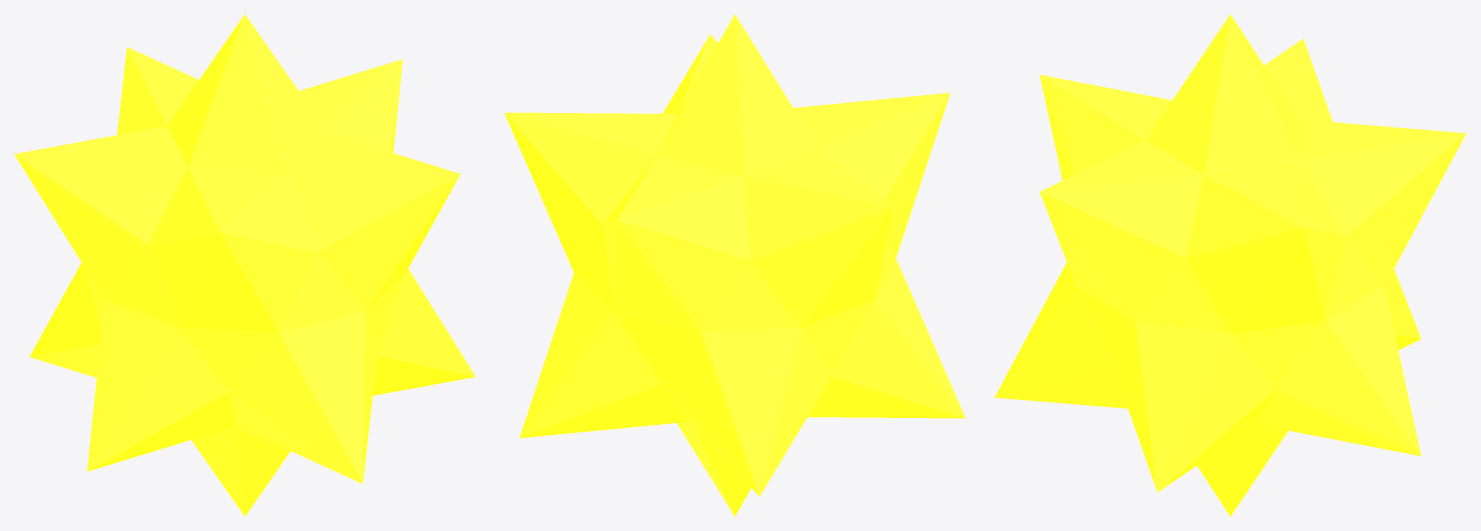
File: StarFlake.gltf
The picture shows the model from 3 angles, left to right: view 1: azimuth 30°, elevation 25°; view 2: azimuth 150°, elevation 25°; view 3: azimuth 270°, elevation 25°; orthographic projection.
Parts seen in each view (by area): view 1: StarFlake; view 2: StarFlake; view 3: StarFlake.
Boxes of the visible parts, left/top/right/bottom form: StarFlake: left=14, top=14, right=475, bottom=516; StarFlake: left=504, top=14, right=965, bottom=516; StarFlake: left=994, top=14, right=1466, bottom=516.
Size of the model in its own units: 1.67 by 2.06 by 1.75.
